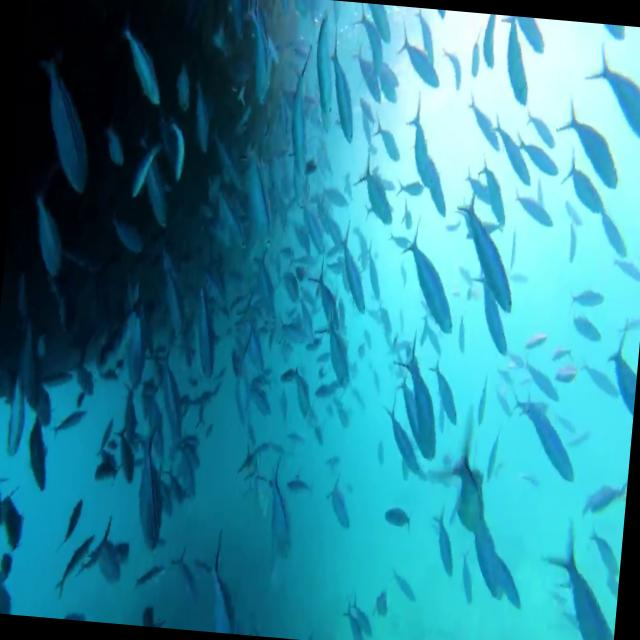fish: (27, 32, 106, 208), (539, 514, 623, 640), (111, 4, 186, 122), (450, 194, 521, 314), (392, 225, 467, 334), (388, 322, 448, 454), (282, 33, 328, 203), (550, 94, 626, 190), (517, 378, 587, 482), (22, 175, 77, 296), (252, 434, 302, 562), (184, 522, 240, 634), (582, 40, 640, 148), (229, 0, 287, 101), (371, 393, 433, 478), (330, 212, 378, 320), (151, 245, 197, 354), (322, 37, 364, 154), (149, 346, 192, 460), (130, 128, 176, 234), (188, 271, 231, 384), (486, 104, 540, 188), (306, 3, 344, 117), (309, 297, 356, 383), (396, 22, 452, 90), (474, 262, 512, 359), (598, 332, 640, 416), (426, 496, 467, 582), (557, 156, 610, 217), (510, 114, 560, 178), (108, 409, 144, 497), (159, 104, 194, 194), (504, 182, 558, 238), (462, 85, 506, 153), (402, 88, 434, 172), (521, 100, 557, 150), (568, 272, 610, 314), (130, 140, 162, 193), (571, 311, 607, 357), (584, 360, 625, 400), (347, 588, 378, 632), (335, 600, 369, 640)
